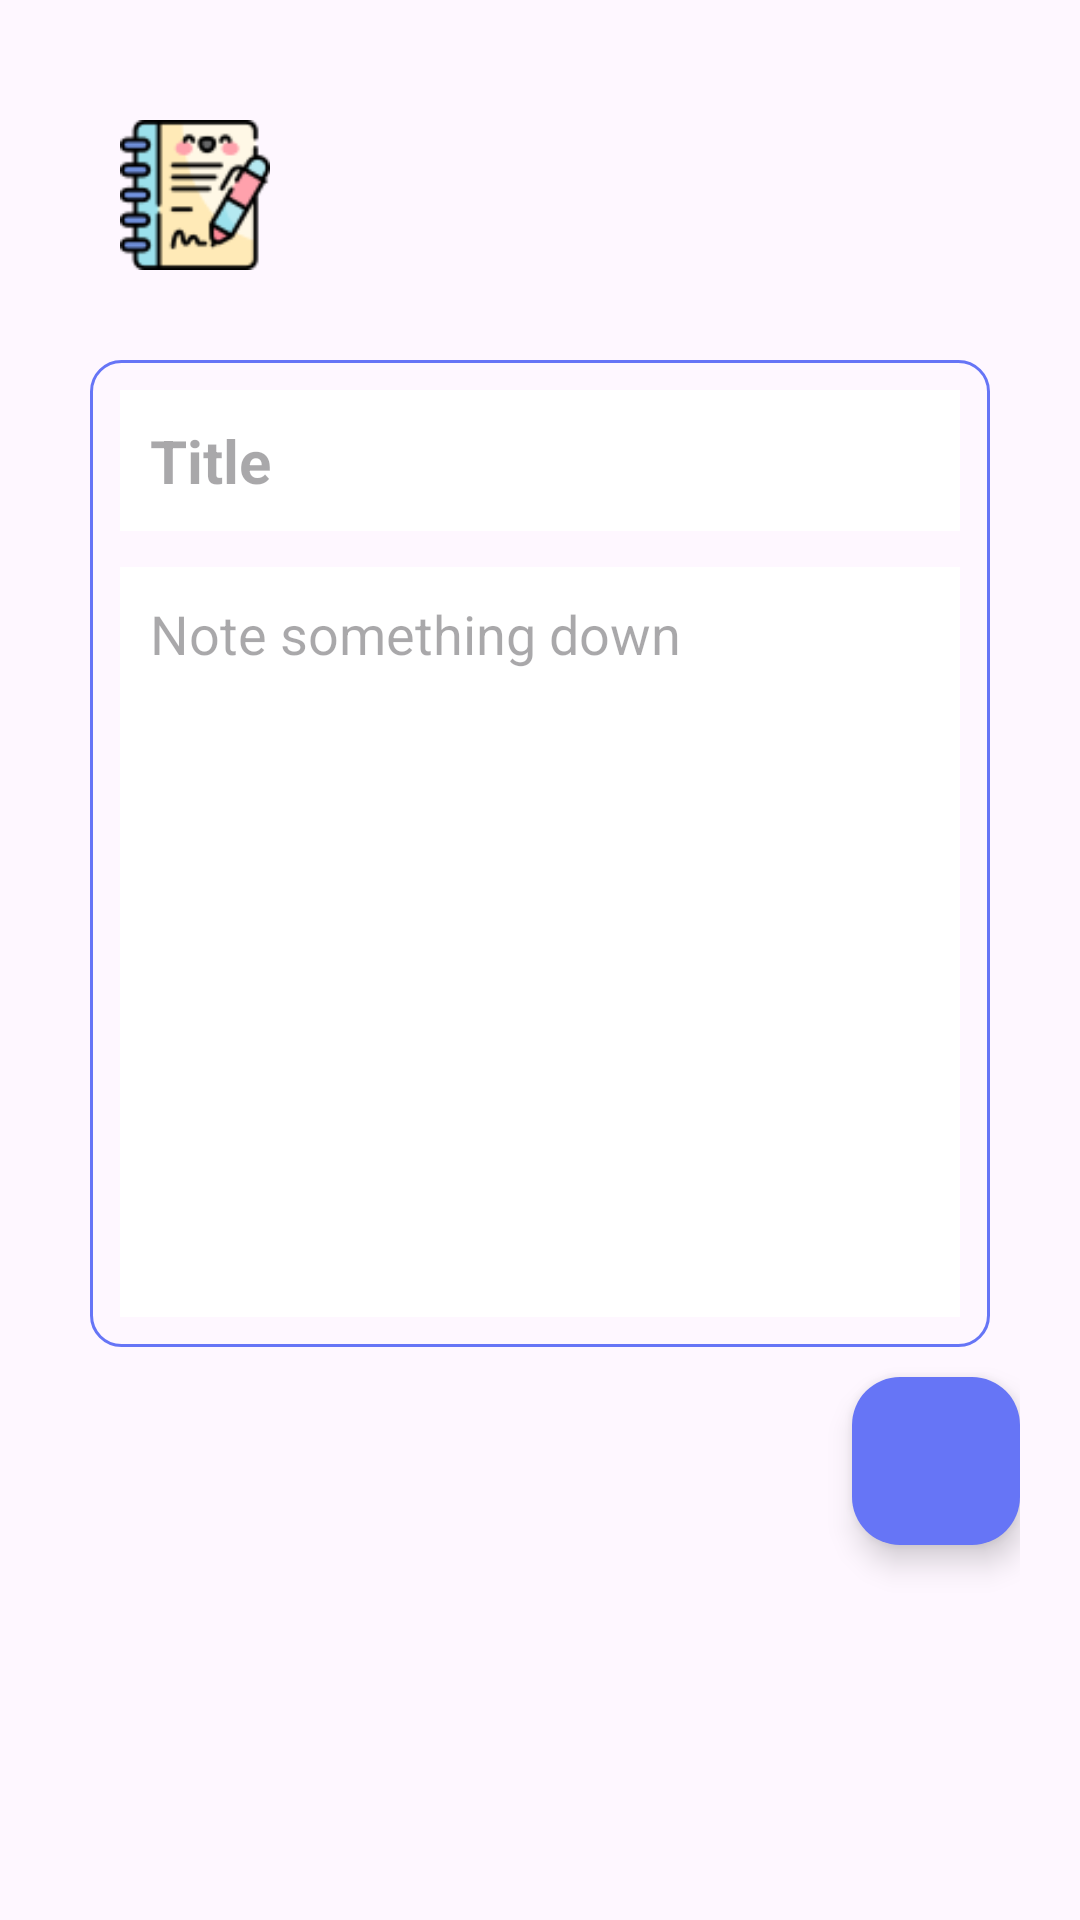

Named icons in this screenshot (1080*1920) and their bounding boxes, BBox(x1, y1, x2, y2):
write: BBox(120, 120, 270, 270)
